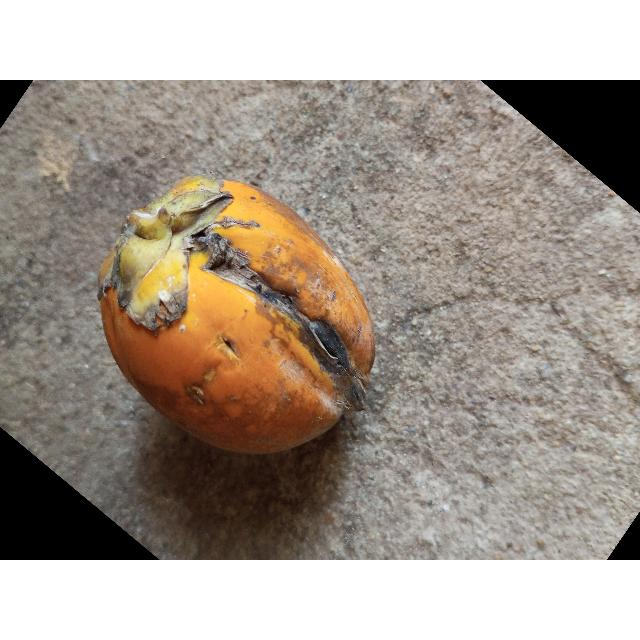damaged: (96, 177, 375, 458)
